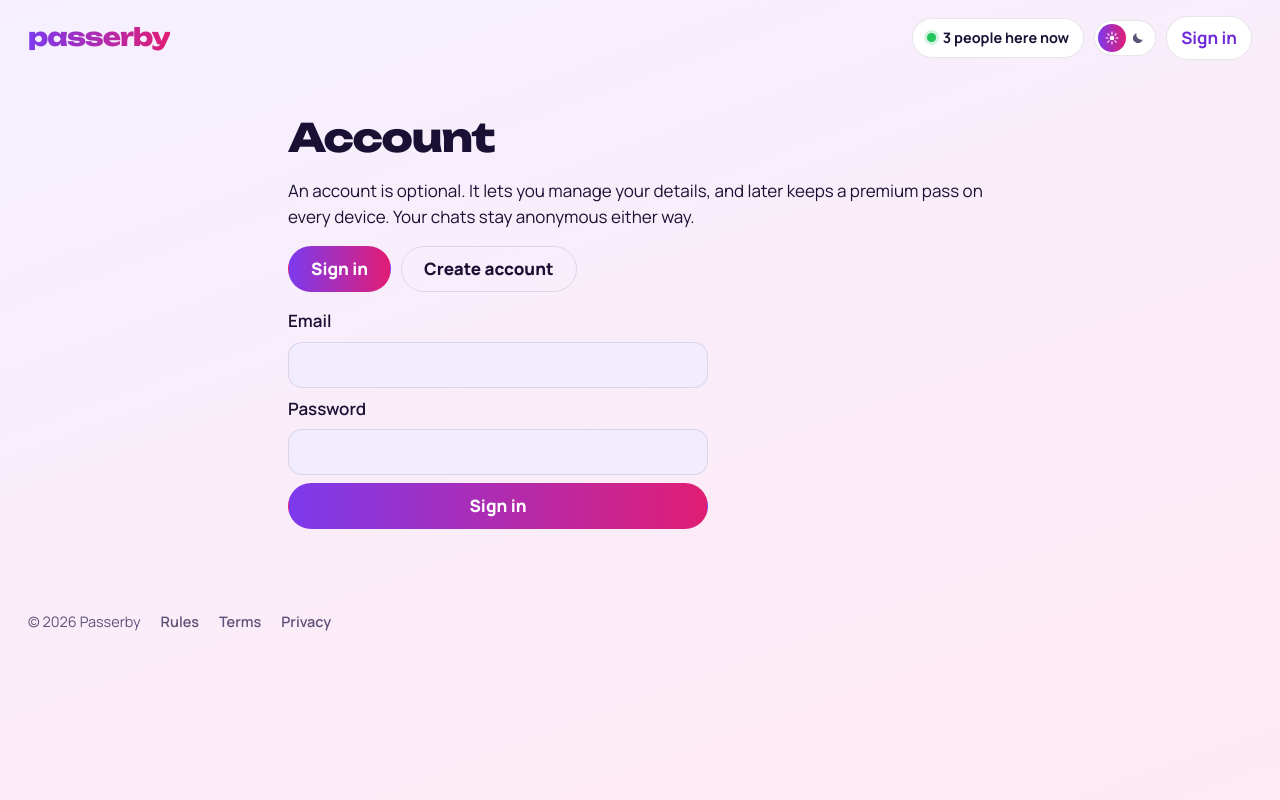
Test case: the question on the sign-up form › keeps the answer on the account
Expected: the form "Sign in" is shown, [288,308,708,529]
Click the button "Create account" at (489, 269), box [401,246,576,292]
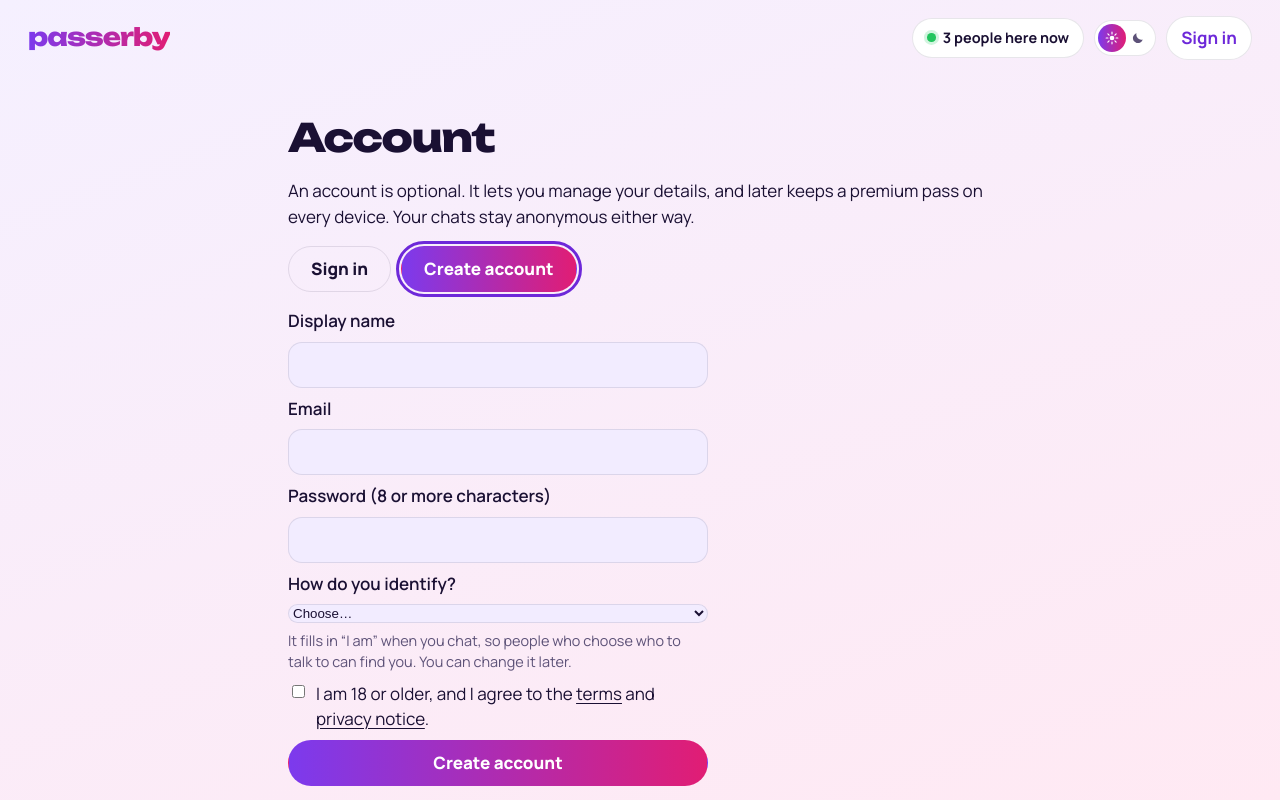
Type "Sam" into the field labelled "Display name" at (498, 364), box [288,342,708,388]
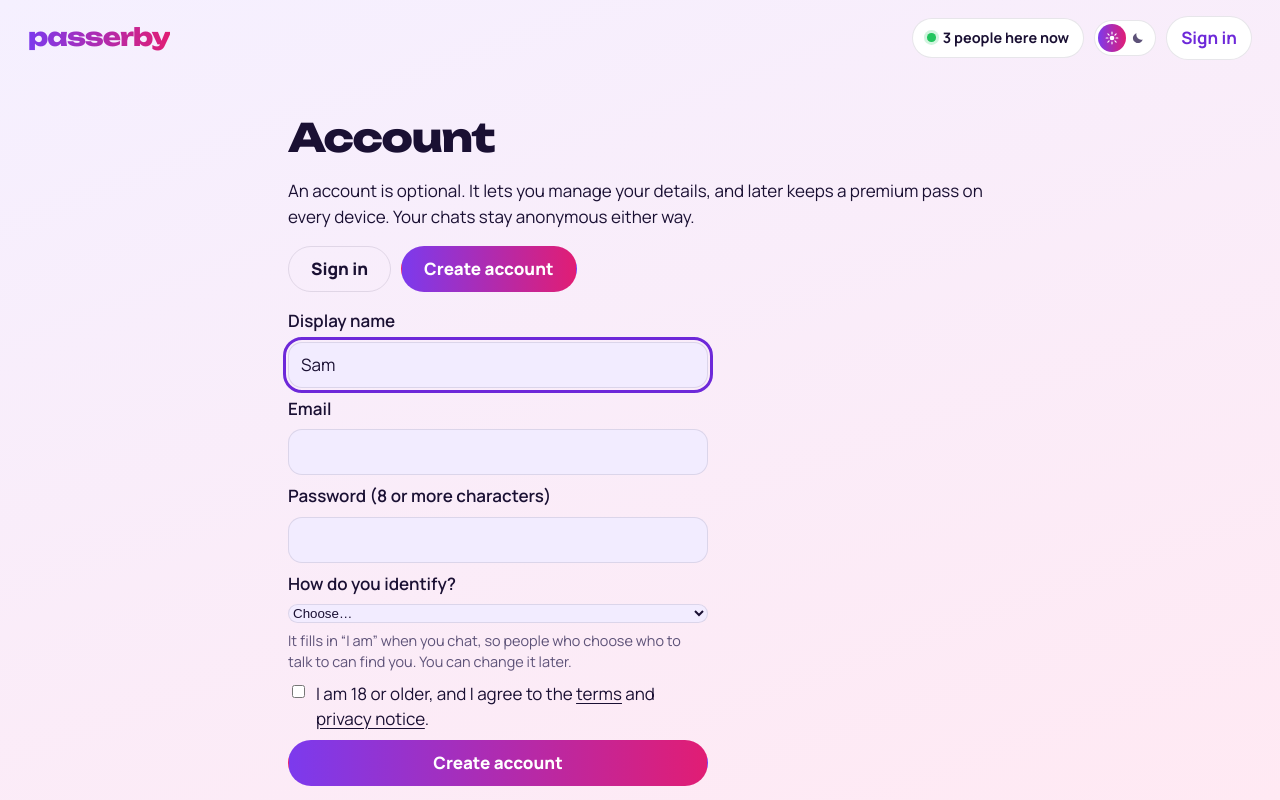
Type "sam@example.com" into the field labelled "Email" at (498, 452), box [288,429,708,475]
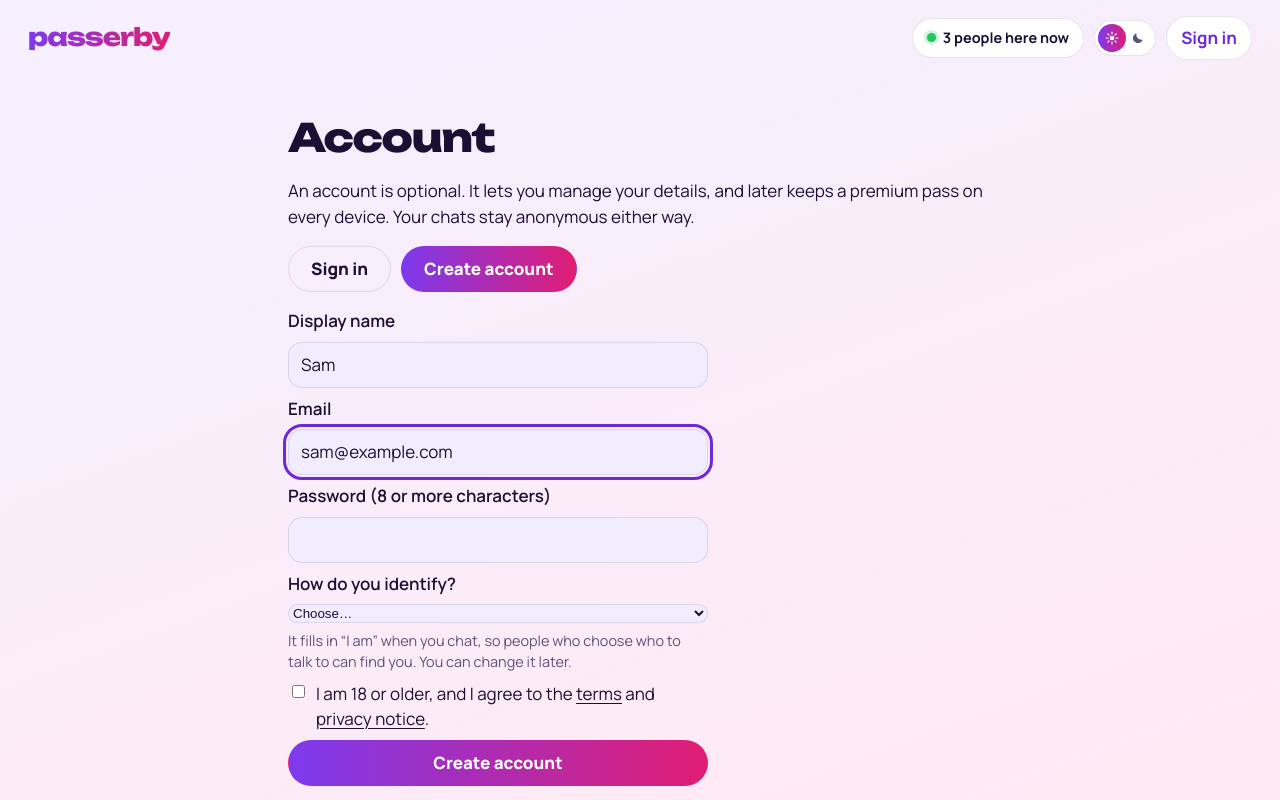
Type "correct horse" into the password field labelled "Password (8 or more characters)" at (498, 540), box [288,516,708,562]
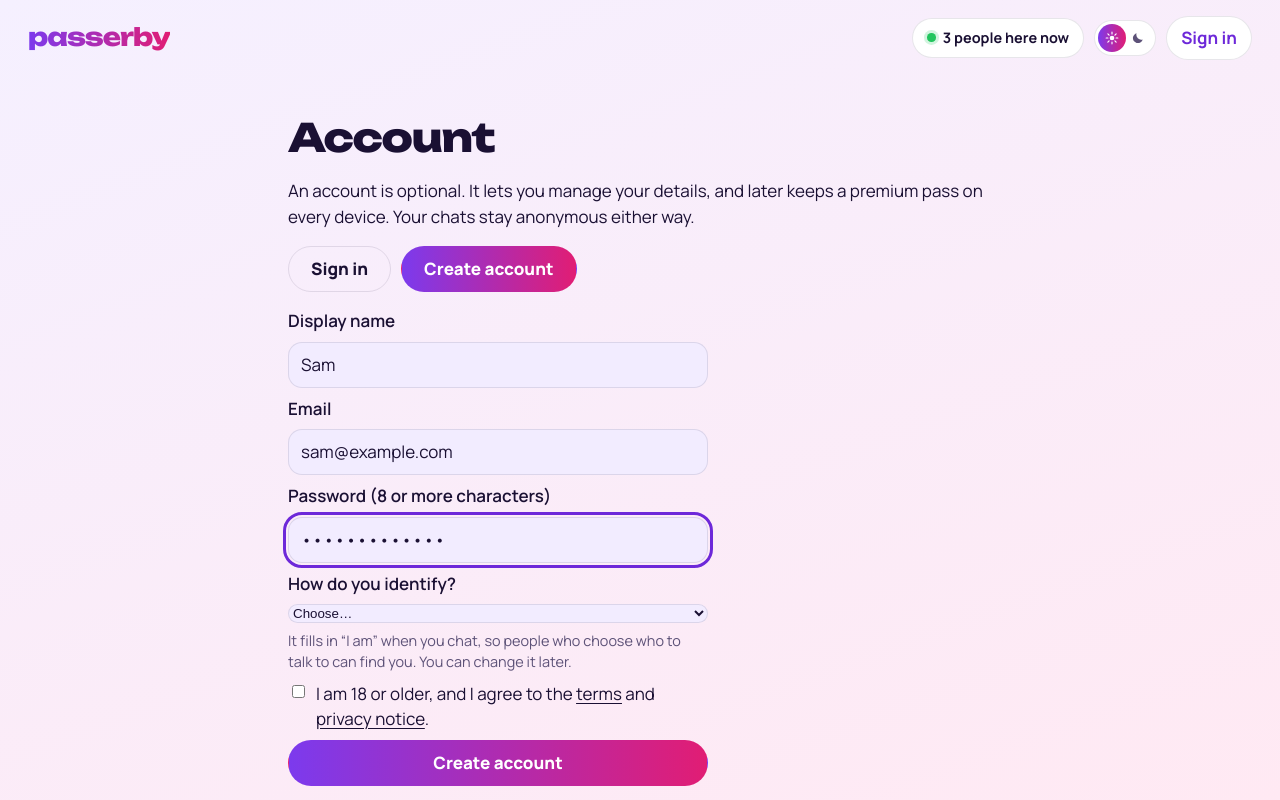
Click the checkbox at (298, 692), box [292,685,305,698]
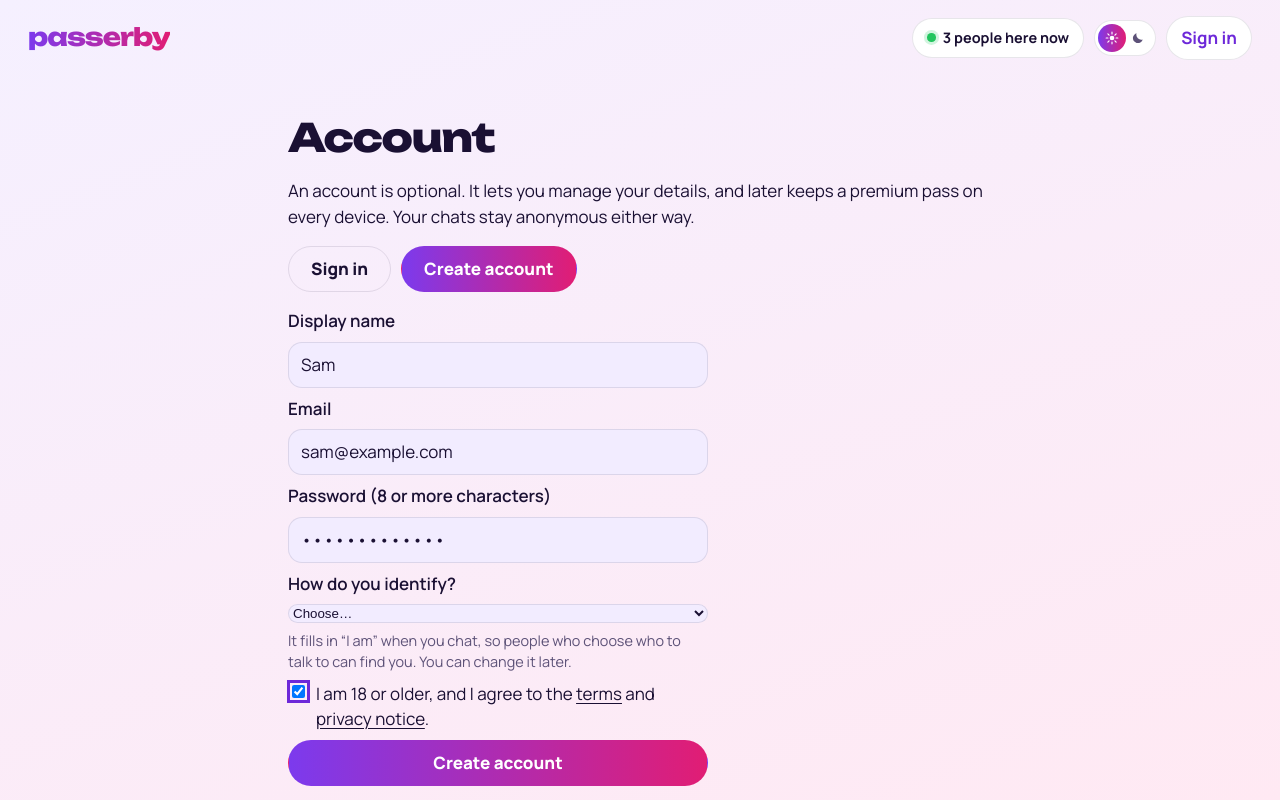
Select "Female" in the dropdown labelled "How do you identify?" at (498, 614), box [288,604,708,623]
Click the button "Create account" below "privacy notice" at (498, 763), box [288,740,708,786]
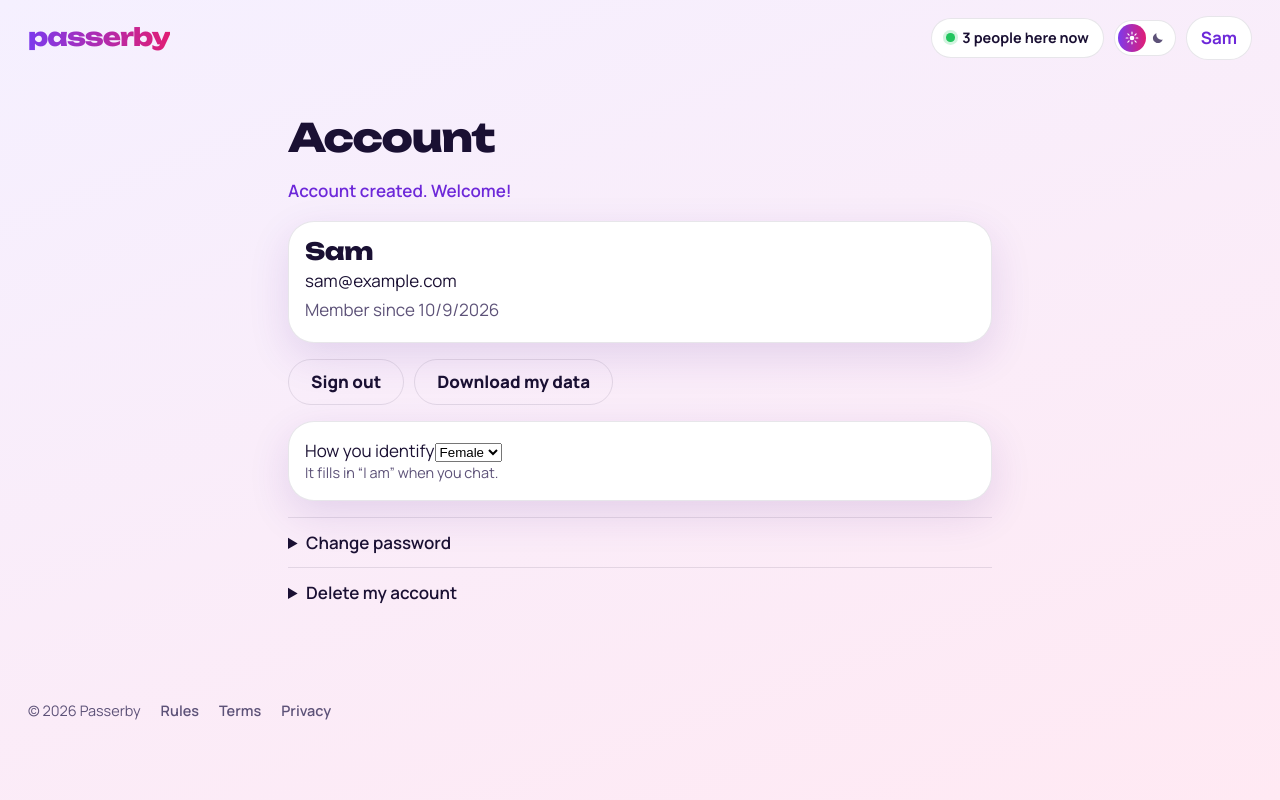
Expected: the heading "Sam" is shown, [305,236,373,266]
Expected: the dropdown labelled "How you identify" shows "Female", [435,442,502,462]
